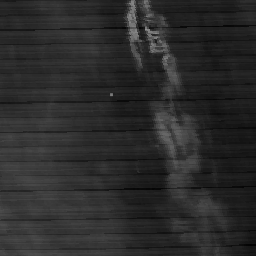Target: (108, 91, 114, 98)
